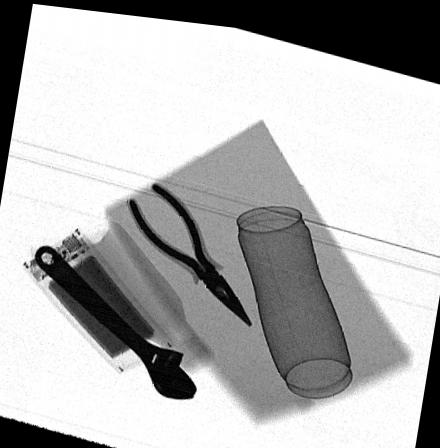Pliers: (125, 178, 254, 323)
Powerbank: (22, 224, 178, 372)
Wrench: (33, 245, 196, 396)
